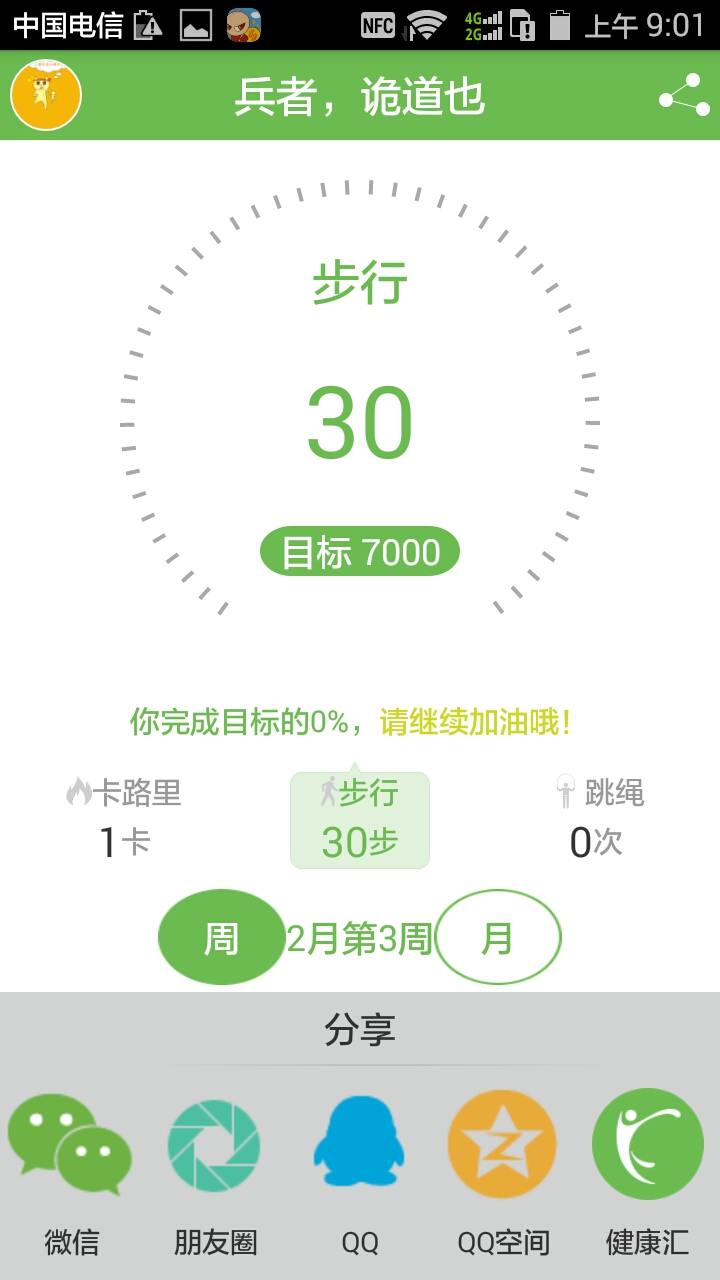textview: (106, 690, 594, 750)
